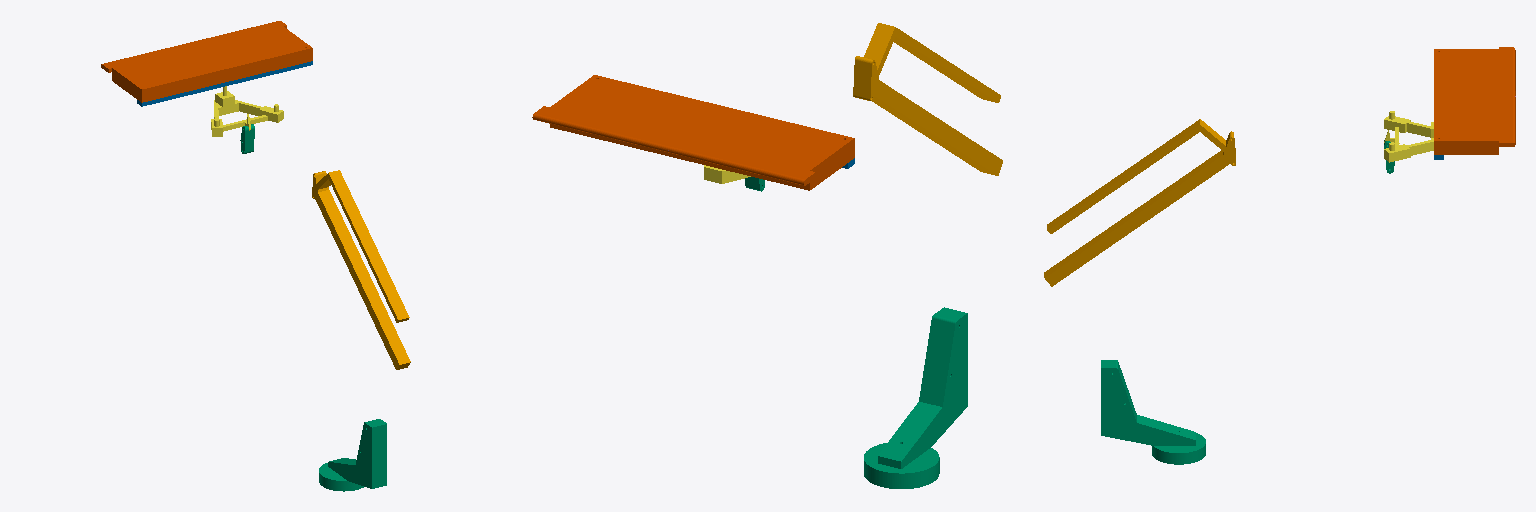
--- Render facts (derived) ---
3 views of the same robot in one strip: view 1: azimuth 30°, elevation 25°; view 2: azimuth 150°, elevation 25°; view 3: azimuth 270°, elevation 25° (orthographic).
Model hinowa with 15 links and 14 joints (8 revolute, 1 prismatic, 5 fixed), rooted at anchor, posed joints at zero except 4 at the middle of their limits (joint_5 = 3.14, joint_6 = 2.49, joint_8 = 0.8723, joint_9 = -0.8723, joint_end_bottom = 0.6508).
Links seen in each view (by area): view 1: end_top, link_7, link_1, end_bottom, end_middle; view 2: end_top, link_1, link_7; view 3: end_top, link_7, link_1, end_bottom.
Link boxes in pixels (bbox=[...]): end_top: bbox=[101, 21, 312, 102]; link_7: bbox=[312, 170, 410, 369]; link_1: bbox=[319, 419, 386, 491]; end_bottom: bbox=[211, 86, 283, 136]; end_middle: bbox=[137, 61, 312, 106]; end_top: bbox=[532, 75, 854, 190]; link_1: bbox=[864, 307, 967, 488]; link_7: bbox=[853, 23, 1002, 175]; end_top: bbox=[1434, 47, 1515, 154]; link_7: bbox=[1044, 119, 1235, 286]; link_1: bbox=[1101, 360, 1205, 464]; end_bottom: bbox=[1384, 111, 1433, 162].
Size in the robot's own frame: 1.88 by 3.92 by 3.29 metres.
6 mesh visuals loaded from 13 distinct referenced files (6 binary STL); not drawn: 7 (reference not matched to a file when rendering).

URDF robot description (hinowa):
<?xml version="1.0"?>
<robot name="hinowa"> 
<!--
 <link name="world" />
  <joint name="world_joint" type="fixed">
    <origin rpy="1.57071 0 0"/>
    <parent link="world"/>
    <child link="base_link"/>
  </joint>
-->
<!-- uncomment for reference to aruco_mapping topic -->

<!--
 <link name="camera_link">
    <collision>
      <origin xyz="0 0 0" rpy="0 0 0"/>
      <geometry>
    <box size="0.160 0.105 0.170"/>
      </geometry>
    </collision>
    <visual>
      <origin xyz="0 0 0" rpy="0 0 0"/>
      <geometry>
    <box size="0.160 0.105 0.170"/>
      </geometry>
    </visual>
 </link>

 <joint name="dummy_joint" type="fixed">
    <origin xyz="0 0 0" rpy="1.57071 1.57071 0"/>
    <parent link="dummy"/>
    <child link="camera_link"/>
 </joint>

 <joint name="camera_joint" type="fixed">
    <origin xyz="0 0 -0.2" rpy="0 0 0"/>
    <parent link="camera_link"/>
    <child link="base_link"/>
 </joint>
-->
<!-- rpy="1.57071 1.57071 0"/>  (commented alt for camera_joint origin)-->

  <link name="anchor"/>

 <joint name="anchor_joint" type="fixed">
    <origin xyz="0.0 0.0 0.0" rpy="0 0 0"/> <!-- check these distances -->
    <parent link="anchor"/>
    <child link="base_link"/>
 </joint>

<!--ALL OTHER URDF MODELLING -->
  <link name="base_link">
    <visual>
	<origin xyz="0 0 0" rpy="1.57071 0 0"/>
      <geometry>
        <mesh filename="package://hinowa_description/meshes/base_link.stl" scale="0.001 0.001 0.001"/>
      </geometry>
    </visual>
    <collision>
	<origin xyz="0 0 0" rpy="1.57071 0 0"/>-->
	<geometry>
	  <mesh filename="package://hinowa_description/meshes/base_link.stl" scale="0.001 0.001 0.001"/>
	</geometry>
    </collision>
    <!--
      <inertial>
      <origin xyz="0.54 -0.05591 0" rpy="0 0 0"/>
      <mass value="500"/>
      <inertia  ixx="100.521" ixy="0" ixz="0" iyy="160.77" iyz="0" izz="120.485"/>
    </inertial>
    -->
  </link>

  <link name="link_1">
  <visual>
    <geometry>
      <mesh filename="package://hinowa_description/meshes/link_1.stl" scale="0.001 0.001 0.001"/>
    </geometry>
  </visual>
  <collision>
    <geometry>
      <mesh filename="package://hinowa_description/meshes/link_1.stl" scale="0.001 0.001 0.001"/>
    </geometry>
  </collision>
<!--
    <inertial>
      <origin xyz="0.264481 0 0.275696" rpy="0 0 0"/>
      <mass value="200"/>
      <inertia  ixx="37.117" ixy="0" ixz="-30.283" iyy="75.104" iyz="0" izz="42.477"/>
   </inertial>
-->
  </link>

  <joint name="joint_1" type="revolute">
    <origin xyz="0.0 0 0.583" rpy="0 0 -1.57071"/>
    <limit lower="-2.61799" upper="2.61799" effort="100" velocity = "1.0" /> <!-- lower: -2.61799, upper 2.61799-->
    <axis xyz="0 0 1"/>
    <parent link="base_link"/>
    <child link="link_1"/>
  </joint>

  <link name="link_2">
  <visual>
    <origin xyz="0.0 0.0 0.0" rpy="1.57071 0 -1.57071"/>
    <geometry>
      <mesh filename="package://hinowa_description/meshes/link_2.stl" scale="0.001 0.001 0.001"/>
    </geometry>
  </visual>
  <collision>
    <origin xyz="0.0 0.0 0.0" rpy="1.57071 0 -1.57071"/>
    <geometry>
      <mesh filename="package://hinowa_description/meshes/link_2.stl" scale="0.001 0.001 0.001"/>
    </geometry>
  </collision>
<!--   
      <inertial>
      <origin xyz="-0.6 0 -0.1732" rpy="1.849963 0 -1.57071"/>
      <mass value="100"/>
      <inertia  ixx="21.542" ixy="0" ixz="0" iyy="20.448" iyz="5.968" izz="2.065"/> 
   </inertial>
-->
  </link>
<!--
  <joint name="joint_2" type="revolute">
    <origin xyz="0.565 0 0.795" rpy="0 0 0"/>
    <axis xyz="0 1 0"/>
    <limit lower="0" upper="1.22173" effort="100" velocity = "1.0" />
    <parent link="link_1"/>
    <child link="link_2"/>
  </joint>
-->
  <joint name="joint_2" type="fixed">
    <origin xyz="0.550224 0 0.767144" rpy="0 0 0"/>
    <axis xyz="0 1 0"/>
    <limit effort="100" velocity = "1.0" />
    <parent link="link_1"/>
    <child link="link_2"/>
  </joint>

  <link name="link_3">
  <visual>
    <origin xyz="0 0 0" rpy="0 0 0"/>
    <geometry>
      <mesh filename="package://hinowa_description/meshes/link_3.stl" scale="0.001 0.001 0.001"/>
    </geometry>
  </visual>
  <collision>
    <origin xyz="0 0 0" rpy="0 0 0"/>
    <geometry>
      <mesh filename="package://hinowa_description/meshes/link_3.stl" scale="0.001 0.001 0.001"/>
    </geometry>
  </collision>
<!-- 
  <inertial>
      <origin xyz="0 0.076 0.071" rpy="0 0 0"/>
      <mass value="100"/>
      <inertia  ixx="10.873" ixy="0" ixz="0" iyy="2.1" iyz="-0.18" izz="10.1"/>
  </inertial>
-->
  </link>

<!--
  <joint name="joint_3" type="revolute">
    <axis xyz="1 0 0"/>
    <origin xyz="-1.0665 0 -0.266" rpy="1.57071 0 -1.57071"/>
    <limit lower="0" upper="1.1410209" effort="100" velocity = "1.0" />
    <parent link="link_2"/>
    <child link="link_3"/>
    <mimic joint="joint_2"/>
  </joint>
-->

  <joint name="joint_3" type="fixed">
    <axis xyz="1 0 0"/>
    <origin xyz="-1.067325 0 -0.266114" rpy="1.57071 0 -1.57071"/>
    <limit effort="100" velocity = "1.0" />
    <parent link="link_2"/>
    <child link="link_3"/>
  </joint>

  <link name="link_4">
  <visual>
    <origin xyz="0 0 0" rpy="0 0 0"/>
    <geometry>
      <mesh filename="package://hinowa_description/meshes/link_4.stl" scale="0.001 0.001 0.001"/>
    </geometry>
  </visual>
  <collision>
    <origin xyz="0 0 0" rpy="0 0 0"/>
    <geometry>
      <mesh filename="package://hinowa_description/meshes/link_4.stl" scale="0.001 0.001 0.001"/>
    </geometry>
  </collision>
  </link>

  <joint name="joint_4" type="revolute">
    <origin xyz="0 0.460 0.080"/>
    <axis xyz="1 0 0"/>
    <limit lower="0" upper="1.406735" effort="100" velocity = "1.0" />
    <parent link="link_3"/>
    <child link="link_4"/>
  </joint>

  <link name="link_5">
  <visual>
    <origin xyz="0 0 0" rpy="0 0 0"/>
    <geometry>
      <mesh filename="package://hinowa_description/meshes/link_5.stl" scale="0.001 0.001 0.001"/>
    </geometry>
  </visual>
  <collision>
    <origin xyz="0 0 0" rpy="0 0 0"/>
    <geometry>
      <mesh filename="package://hinowa_description/meshes/link_5.stl" scale="0.001 0.001 0.001"/>
    </geometry>
  </collision>
  </link>

  <joint name="joint_5" type="revolute">
    <origin xyz="0 -0.661530 -2.307028" rpy="0 3.14159 3.14159"/>
    <axis xyz="1 0 0"/>
    <limit lower="1.74159" upper="3.14159" effort="100" velocity = "1.0" /> <!--lower = 1.734855 (unrounded limits in .yaml)-->
    <parent link="link_4"/>
    <child link="link_5"/>
    <mimic joint="joint_4" multiplier="-1" offset="3.14159"/>
  </joint>

  <link name="link_6">
  <visual>
    <origin xyz="0 0 0" rpy="0 0 0"/>
    <geometry>
      <mesh filename="package://hinowa_description/meshes/link_6.stl" scale="0.001 0.001 0.001"/>
    </geometry>
  </visual>
  <collision>
    <origin xyz="0 0 0" rpy="0 0 0"/>
    <geometry>
      <mesh filename="package://hinowa_description/meshes/link_6.stl" scale="0.001 0.001 0.001"/>
    </geometry>
  </collision>
  </link>

  <joint name="joint_6" type="revolute">
    <origin xyz="0 0.750 -0.09" rpy="0 3.14159 3.14159"/>
    <axis xyz="1 0 0"/>
    <limit lower="1.84" upper="3.14159" effort="100" velocity = "1.0" /><!-- 1.84132 -->
    <parent link="link_5"/>
    <child link="link_6"/>
  </joint>


  <link name="link_7">
  <visual>
    <origin xyz="0 0 0" rpy="0 0 0"/>
    <geometry>
      <mesh filename="package://hinowa_description/meshes/link_7_cable.stl" scale="0.001 0.001 0.001"/>
    </geometry>
  </visual>
  <collision>
    <origin xyz="0 0 0" rpy="0 0 0"/>
    <geometry>
      <mesh filename="package://hinowa_description/meshes/link_7_cable.stl" scale="0.001 0.001 0.001"/>
    </geometry>
  </collision>
  </link>

  <joint name="joint_7" type="prismatic">
    <origin xyz="0 0 2.735" rpy="0 0 0"/>
    <axis xyz="0 0 1"/>
    <limit lower="0" upper="1.851" effort="100" velocity = "1.0" />
    <parent link="link_6"/>
    <child link="link_7"/>
  </joint>

  <link name="link_8">
  <visual>
    <origin xyz="0 0 0" rpy="0 0 0"/>
    <geometry>
      <mesh filename="package://hinowa_description/meshes/link_8.stl" scale="0.001 0.001 0.001"/>
    </geometry>
  </visual>
  <collision>
    <origin xyz="0 0 0" rpy="0 0 0"/>
    <geometry>
      <mesh filename="package://hinowa_description/meshes/link_8_collision.stl" scale="0.001 0.001 0.001"/>
    </geometry>
  </collision>
  </link>

  <joint name="joint_8" type="revolute">
    <origin xyz="0 -0.07 0.05" rpy="0 0 0"/> <!-- 0 0.120 0.170 -->
    <axis xyz="1 0 0"/>
    <limit lower="0.174533" upper="1.57" effort="100" velocity = "1.0" /><!--0.150012--><!--0.13-->
    <parent link="link_7"/>
    <child link="link_8"/>
  </joint>

  <link name="link_9">
  <visual>
    <origin xyz="0 0 0" rpy="0 0 0"/>
    <geometry>
      <mesh filename="package://hinowa_description/meshes/link_9.stl" scale="0.001 0.001 0.001"/>
    </geometry>
  </visual>
  <collision>
    <origin xyz="0 0 0" rpy="0 0 0"/>
    <geometry>
      <mesh filename="package://hinowa_description/meshes/link_9_collision.stl" scale="0.001 0.001 0.001"/>
    </geometry>
  </collision>
</link>

  <joint name="joint_9" type="revolute">
    <origin xyz="0 0.223361 1.280668" rpy="0 0 0"/>
    <axis xyz="1 0 0"/>
    <limit lower="-1.57" upper="-0.174533" effort="100" velocity = "1.0" />
    <parent link="link_8"/>
    <child link="link_9"/>
    <mimic joint="joint_8" multiplier="-1" offset="0.0"/>-->
  </joint>
<!--
  <link name="link_8_b">
  <visual>
    <origin xyz="0 0 0" rpy="0 0 0"/>
    <geometry>
      <mesh filename="package://hinowa_description/meshes/link_8_back.stl" scale="0.001 0.001 0.001"/>
    </geometry>
  </visual>
  <collision>
    <origin xyz="0 0 0" rpy="0 0 0"/>
    <geometry>
      <mesh filename="package://hinowa_description/meshes/link_8_back.stl" scale="0.001 0.001 0.001"/>
    </geometry>
  </collision>
</link>

  <joint name="joint_8_b" type="revolute">
    <origin xyz="0 -0.07 0.05" rpy="0 0 0"/>
    <axis xyz="1 0 0"/>
    <limit lower="0.13" upper="1.57071" effort="100" velocity = "1.0" />
    <parent link="link_7"/>
    <child link="link_8_b"/>
    <mimic joint="joint_8" multiplier="1" offset="0.0"/>
  </joint>
-->

 <link name="end_bottom">
  <visual>
    <origin xyz="0 0 0" rpy="0 0 0"/>
    <geometry>
      <mesh filename="package://hinowa_description/meshes/end_bottom.stl" scale="0.001 0.001 0.001"/>
    </geometry>
  </visual>
  <collision>
    <origin xyz="0 0 0" rpy="0 0 0"/>
    <geometry>
      <mesh filename="package://hinowa_description/meshes/end_bottom.stl" scale="0.001 0.001 0.001"/>
    </geometry>
  </collision>
 </link>

  <joint name="joint_end_bottom" type="revolute">
    <origin xyz="0 0.190 0.120" rpy="0 0 0"/>
    <axis xyz="1 0 0"/>
    <limit lower="-1.57071" upper="1.17159" effort="100" velocity = "1.0" />
    <parent link="link_9"/>
    <child link="end_bottom"/>
    <mimic joint="joint_6" multiplier="-1" offset="3.14159"/>-->
  </joint>

 <link name="end_middle">
  <visual>
    <origin xyz="0 0 0" rpy="0 0 0"/>
    <geometry>
      <mesh filename="package://hinowa_description/meshes/end_middle.stl" scale="0.001 0.001 0.001"/>
    </geometry>
  </visual>
  <collision>
    <origin xyz="0 0 0" rpy="0 0 0"/>
    <geometry>
      <mesh filename="package://hinowa_description/meshes/end_middle.stl" scale="0.001 0.001 0.001"/>
    </geometry>
  </collision>
 </link>

  <joint name="joint_end_middle" type="revolute">
    <origin xyz="0 0.271 0.427353" rpy="0 1.57071 0"/>
    <axis xyz="0 1 0"/>
    <limit lower="-0.523599" upper="0.523599" effort="100" velocity = "1.0" />
    <parent link="end_bottom"/>
    <child link="end_middle"/>
    <!-- <mimic joint="joint_1" multiplier="-1" offset="-1.57071"/> -->
  </joint>

 <link name="end_top">
  <visual>
    <origin xyz="0 0 0" rpy="0 0 0"/>
    <geometry>
      <mesh filename="package://hinowa_description/meshes/end_top.stl" scale="0.001 0.001 0.001"/>
    </geometry>
  </visual>
  <collision>
    <origin xyz="0 0 0" rpy="0 0 0"/>
    <geometry>
      <mesh filename="package://hinowa_description/meshes/end_top.stl" scale="0.001 0.001 0.001"/>
    </geometry>
  </collision>
 </link>
<!--
  <joint name="joint_end_top" type="prismatic">
    <origin xyz="0 0.04 0.855" rpy="0 3.14159 0"/>
    <axis xyz="1 0 0"/>
    <limit lower="-0.3" upper="0" effort="100" velocity = "1.0" />
    <parent link="end_middle"/>
    <child link="end_top"/>
  </joint>
-->
  <joint name="joint_end_top" type="fixed">
    <origin xyz="0 0.04 0.855" rpy="0 3.14159 0"/>
    <axis xyz="1 0 0"/>
    <limit effort="100" velocity = "1.0" />
    <parent link="end_middle"/>
    <child link="end_top"/>
    <!-- <mimic joint="joint_1" multiplier="-1" offset="-1.57071"/> -->
  </joint>

  <link name="end">
  <visual>
    <origin xyz="0 0 0" rpy="0 0 0"/>
    <geometry>
      <box size="0.01 0.01 0.01"/>
    </geometry>
  </visual>
  <collision>
    <origin xyz="0 0 0" rpy="0 0 0"/>
    <geometry>
      <box size="0.0001 0.0001 0.0001"/>
    </geometry>
  </collision>
  </link>

  <joint name="end_joint" type="fixed">
    <origin rpy="0 0 0" xyz="0.63 0.113 0.855"/>
    <parent link="end_top"/>
    <child link="end"/>
  </joint>



<!-- cosmetic additions-->
<!--

-->
<!--
  <link name="link_4a">
  <visual>
    <origin xyz="0 0 0" rpy="0 0 0"/>
    <geometry>
      <mesh filename="package://hinowa_description/meshes/link_4a.stl" scale="0.001 0.001 0.001"/>
    </geometry>
  </visual>
  <collision>
    <origin xyz="0 0 0" rpy="0 0 0"/>
    <geometry>
      <mesh filename="package://hinowa_description/meshes/link_4a.stl" scale="0.001 0.001 0.001"/>
    </geometry>
  </collision>
  </link>

  <joint name="joint_4a" type="revolute">
    <origin xyz="-0.155 -0.266742 -0.081551" rpy="0 0 0"/>
    <axis xyz="1 0 0"/>
    <limit lower="0" upper="1.57071" effort="100" velocity = "1.0" />
    <parent link="link_5"/>
    <child link="link_4a"/>
    <mimic joint="joint_4" multiplier="1" offset="0"/>
  </joint>

<link name="link_4b">
  <visual>
    <origin xyz="0 0 0" rpy="0 0 0"/>
    <geometry>
      <mesh filename="package://hinowa_description/meshes/link_4a.stl" scale="0.001 0.001 0.001"/>
    </geometry>
  </visual>
  <collision>
    <origin xyz="0 0 0" rpy="0 0 0"/>
    <geometry>
      <mesh filename="package://hinowa_description/meshes/link_4a.stl" scale="0.001 0.001 0.001"/>
    </geometry>
  </collision>
  </link>

  <joint name="joint_4b" type="revolute">
    <origin xyz="0.105 -0.266742 -0.081551" rpy="0 0 0"/>
    <axis xyz="1 0 0"/>
    <limit lower="0" upper="1.57071" effort="100" velocity = "1.0" />
    <parent link="link_5"/>
    <child link="link_4b"/>
    <mimic joint="joint_4" multiplier="1" offset="0"/>
  </joint>

-->



<!--
  <link name="link_cable_carrier">
  <visual>
    <origin xyz="0 0 0" rpy="0 0 0"/>
    <geometry>
      <mesh filename="package://hinowa_description/meshes/cable_carrier_ext.stl" scale="0.001 0.001 0.001"/>
    </geometry>
  </visual>
  <collision>
    <origin xyz="0 0 0" rpy="0 0 0"/>
    <geometry>
      <mesh filename="package://hinowa_description/meshes/cable_carrier_ext.stl" scale="0.001 0.001 0.001"/>
    </geometry>
  </collision>
</link>

  <joint name="joint_cable_carrier" type="prismatic">
    <origin xyz="0 0.360817 -1.554906" rpy="0 -1.57071 0"/>
    <axis xyz="1 0 0"/>
    <limit lower="0" upper="1" effort="100" velocity = "1.0" />
    <parent link="link_7"/>
    <child link="link_cable_carrier"/>
    <mimic joint="joint_7" multiplier="-0.5" offset="0"/>
  </joint>
-->

<!--
  <joint name="joint_9" type="revolute">
    <origin xyz="0.0 0.225743 1.2825" rpy="0 0 0"/>
    <axis xyz="1 0 0"/>
    <limit lower="-1.57071" upper="0" effort="10000000" velocity = "2.0" />
    <parent link="link_8"/>
    <child link="link_9"/>
  </joint>
-->
<!--::::::::::::::::::::::::::::::::::aruco camera sensing (most recent)::::::::::::::::::::::::::::::::::::::::::-->
<!--
 <link name="camera_link">
    <collision>
      <origin xyz="0 0 0" rpy="0 0 0"/>
      <geometry>
    <box size="0.160 0.105 0.170"/>
      </geometry>
    </collision>
    <visual>
      <origin xyz="0 0 0" rpy="0 0 0"/>
      <geometry>
    <box size="0.160 0.105 0.170"/>
      </geometry>
    </visual>
 </link>

 <joint name="camera_joint" type="fixed">
    <origin xyz="0 0 0.56" rpy="1.57071 0 0"/>
    <parent link="end_bottom"/>
    <child link="camera_link"/>
 </joint>

 <link name="camera_frame">
    <collision>
      <origin xyz="0 0 0" rpy="0 0 0"/>
      <geometry>
    <box size="0.05 0.05 0.05"/>
      </geometry>
    </collision>
    <visual>
      <origin xyz="0 0 0" rpy="0 0 0"/>
      <geometry>
    <box size="0.05 0.05 0.05"/>
      </geometry>
    </visual>
    <inertial>
      <mass value="0.0001" />
      <origin xyz="0 0 0" rpy="0 0 0"/>
      <inertia ixx="0.000001" ixy="0" ixz="0" iyy="0.000001" iyz="0" izz="0.000001" />
    </inertial>
 </link>

 <joint name="frame_joint" type="fixed">
    <origin xyz="0.0 0.0 0.56" rpy="-1.57071 3.14159 0"/>
    <parent link="end_bottom"/>
    <child link="camera_frame"/>
 </joint>
-->

<!-- rpy="-1.57071 3.14159 0" - do not change these values -->
<!--:::::::::::::::::::::::::::::::::::::::lidar::::::::::::::::::::::::::::::::::::::-->
<!--
  <joint name="hokuyo_joint" type="fixed">
    <axis xyz="0 1 0" />
    <origin xyz="0 0.03 -0.13125" rpy="0 0 0"/>
    <parent link="arm_link_0"/>
    <child link="hokuyo_link"/>
  </joint>

  <link name="hokuyo_link">
    <collision>
      <origin xyz="0 0 0" rpy="0 0 0"/>
      <geometry>
    <box size="0.1 0.05 0.1"/>
      </geometry>
    </collision>

    <visual>
      <origin xyz="0 0 0" rpy="0 0 0"/>
      <geometry>
        <box size="0.1 0.05 0.1"/>
      </geometry>
    </visual>

    <inertial>
      <mass value="1e-5" />
      <origin xyz="0 0 0" rpy="0 0 0"/>
      <inertia ixx="1e-6" ixy="0" ixz="0" iyy="1e-6" iyz="0" izz="1e-6" />
    </inertial>
  </link>
-->
<!--::::::::::::::::::::::::::::::::::::ArUco marker sensor::::::::::::::::::::::::::::-->
<!--
 <link name="camera2_link">
    <collision>
      <origin xyz="0 0 0" rpy="0 0 0"/>
      <geometry>
    <box size="0.05 0.05 0.05"/>
      </geometry>
    </collision>
    <visual>
      <origin xyz="0 0 0" rpy="0 0 0"/>
      <geometry>
    <box size="0.05 0.05 0.05"/>
      </geometry>
    </visual>
    <inertial>
      <mass value="0.0001" />
      <origin xyz="0 0 0" rpy="0 0 0"/>
      <inertia ixx="0.000001" ixy="0" ixz="0" iyy="0.000001" iyz="0" izz="0.000001" />
    </inertial>
 </link>

 <joint name="camera2_joint" type="fixed">
    <origin xyz="-0.14 -0.025 0" rpy="3.14159 0 1.57071"/>
    <parent link="end"/>
    <child link="camera2_link"/>
 </joint>

 <link name="camera2_frame">
    <collision>
      <origin xyz="0 0 0" rpy="0 0 0"/>
      <geometry>
    <box size="0.05 0.05 0.05"/>
      </geometry>
    </collision>
    <visual>
      <origin xyz="0 0 0" rpy="0 0 0"/>
      <geometry>
    <box size="0.05 0.05 0.05"/>
      </geometry>
    </visual>
    <inertial>
      <mass value="0.0001" />
      <origin xyz="0 0 0" rpy="0 0 0"/>
      <inertia ixx="0.000001" ixy="0" ixz="0" iyy="0.000001" iyz="0" izz="0.000001" />
    </inertial>
 </link>
-->
<!-- rpy="-1.57071 3.14159 0" - do not change these values -->
<!--
 <joint name="frame2_joint" type="fixed">
    <origin xyz="-0.14 -0.025 0" rpy="-1.57071 3.14159 0"/>
    <parent link="end"/>
    <child link="camera2_frame"/>
 </joint>
-->
<!--:::::::::::::::::::::::::::::::::sensors::::::::::::::::::::::::::::::::::::::-->
<!--
  <gazebo reference="camera2_link">
    <sensor type="camera" name="camera">
      <update_rate>30.0</update_rate>
      <camera name="camera">
        <horizontal_fov>1.3962634</horizontal_fov>
        <image>
          <width>800</width>
          <height>800</height>
          <format>R8G8B8</format>
        </image>
        <clip>
          <near>0.02</near>
          <far>300</far>
        </clip>
        <noise>
          <type>gaussian</type>
          <mean>0.0</mean>
          <stddev>0.007</stddev>
        </noise>
      </camera>

      <plugin name="camera_controller" filename="libgazebo_ros_camera.so">
        <alwaysOn>true</alwaysOn>
        <updateRate>0.0</updateRate>
        <cameraName>/camera</cameraName>
        <imageTopicName>/camera/image_raw</imageTopicName>
        <cameraInfoTopicName>/camera/camera_info</cameraInfoTopicName>
        <frameName>camera2_frame</frameName>
        <hackBaseline>0.07</hackBaseline>
        <distortionK1>0.0</distortionK1>
        <distortionK2>0.0</distortionK2>
        <distortionK3>0.0</distortionK3>
        <distortionT1>0.0</distortionT1>
        <distortionT2>0.0</distortionT2>
      </plugin>	
 </sensor>
</gazebo>


<gazebo reference="camera_link">
  <sensor type="depth" name="depth_camera">
      <always_on>true</always_on>
      <update_rate>20.0</update_rate>
      <camera>
        <horizontal_fov>1.3962634</horizontal_fov>
        <image>
          <format>R8G8B8</format>
          <width>800</width>
          <height>800</height>
        </image>
        <clip>
          <near>0.02</near>
          <far>50</far>
        </clip>
      </camera>
      <plugin name="camera_link_controller" filename="libgazebo_ros_openni_kinect.so">
        <baseline>0.2</baseline>
        <alwaysOn>true</alwaysOn>
        <updateRate>0.0</updateRate>
        <cameraName>depth_camera</cameraName>
        <imageTopicName>/depth/image_raw</imageTopicName>
        <cameraInfoTopicName>/depth/camera_info</cameraInfoTopicName>
        <depthImageTopicName>/depth/image_raw</depthImageTopicName>
        <depthImageInfoTopicName>/depth/camera_info</depthImageInfoTopicName>
        <pointCloudTopicName>/depth/points</pointCloudTopicName>
        <frameName>camera_frame</frameName>
        <pointCloudCutoff>0.5</pointCloudCutoff>
        <distortionK1>0.00000001</distortionK1>
        <distortionK2>0.00000001</distortionK2>
        <distortionK3>0.00000001</distortionK3>
        <distortionT1>0.00000001</distortionT1>
        <distortionT2>0.00000001</distortionT2>
        <CxPrime>0</CxPrime>
        <Cx>0</Cx>
        <Cy>0</Cy>
        <focalLength>0</focalLength>
        <hackBaseline>0</hackBaseline>
      </plugin>
  </sensor>
</gazebo>
-->
<!-- hokuyo 
  <gazebo reference="hokuyo_link">
    <sensor type="gpu_ray" name="head_hokuyo_sensor">
      <pose>0 0 0 0 0 0</pose>
      <visualize>true</visualize>
      <update_rate>40</update_rate>
      <ray>
        <scan>
          <horizontal>
            <samples>720</samples>
            <resolution>1</resolution>
            <min_angle>-1.570796</min_angle>
            <max_angle>1.570796</max_angle>
          </horizontal>
        </scan>
        <range>
          <min>0.10</min>
          <max>30.0</max>
          <resolution>0.01</resolution>
        </range>
        <noise>
          <type>gaussian</type>
          <mean>0.0</mean>
          <stddev>0.01</stddev>
        </noise>
      </ray>
      <plugin name="gazebo_ros_head_hokuyo_controller" filename="libgazebo_ros_gpu_laser.so">
        <topicName>/arm_gazebo/laser/scan</topicName>
        <frameName>hokuyo_link</frameName>
      </plugin>
    </sensor>
  </gazebo>
-->
<!--::::::::::::::::::::::::::::::Gazebo - Links::::::::::::::::::::::::::-->
<!--
<gazebo reference="base_link">
  <selfCollide>0</selfCollide>
  <kp>1000000.0</kp>
  <kd>1.0</kd>
  <mu1>0.8</mu1>
  <mu2>0.8</mu2>
  <maxVel>0.0</maxVel>
  <minDepth>0.001</minDepth>
</gazebo>

<gazebo reference="link_1">
  <selfCollide>0</selfCollide>
  <kp>1000000.0</kp>
  <kd>1.0</kd>
  <mu1>0.8</mu1>
  <mu2>0.8</mu2>
  <maxVel>0.0</maxVel>
  <minDepth>0.001</minDepth>
</gazebo>

<gazebo reference="link_2">
  <selfCollide>0</selfCollide>
  <kp>1000000.0</kp>
  <kd>1.0</kd>
  <mu1>0.8</mu1>
  <mu2>0.8</mu2>
  <maxVel>0.0</maxVel>
  <minDepth>0.001</minDepth>
</gazebo>

<gazebo reference="link_3">
  <selfCollide>0</selfCollide>
  <kp>1000000.0</kp>
  <kd>1.0</kd>
  <mu1>0.8</mu1>
  <mu2>0.8</mu2>
  <maxVel>0.0</maxVel>
  <minDepth>0.001</minDepth>
</gazebo>

<gazebo reference="link_4">
  <selfCollide>0</selfCollide>
  <kp>1000000.0</kp>
  <kd>1.0</kd>
  <mu1>0.8</mu1>
  <mu2>0.8</mu2>
  <maxVel>0.0</maxVel>
  <minDepth>0.001</minDepth>
</gazebo>

<gazebo reference="link_5">
  <selfCollide>0</selfCollide>
  <kp>1000000.0</kp>
  <kd>1.0</kd>
  <mu1>0.8</mu1>
  <mu2>0.8</mu2>
  <maxVel>0.0</maxVel>
  <minDepth>0.001</minDepth>
</gazebo>

<gazebo reference="link_6">
  <selfCollide>0</selfCollide>
  <kp>1000000.0</kp>
  <kd>1.0</kd>
  <mu1>0.8</mu1>
  <mu2>0.8</mu2>
  <maxVel>0.0</maxVel>
  <minDepth>0.001</minDepth>
</gazebo>

<gazebo reference="link_7">
  <selfCollide>0</selfCollide>
  <kp>1000000.0</kp>
  <kd>1.0</kd>
  <mu1>0.8</mu1>
  <mu2>0.8</mu2>
  <maxVel>0.0</maxVel>
  <minDepth>0.001</minDepth>
</gazebo>


<gazebo reference="link_8">
  <selfCollide>0</selfCollide>
  <kp>1000000.0</kp>
  <kd>1.0</kd>
  <mu1>0.8</mu1>
  <mu2>0.8</mu2>
  <maxVel>0.0</maxVel>
  <minDepth>0.001</minDepth>
</gazebo>
-->


<!--
<gazebo reference="arm_link_3">
  <selfCollide>0</selfCollide>
  <kp>1000000.0</kp>
  <kd>1.0</kd>
  <mu1>0.8</mu1>
  <mu2>0.8</mu2>
  <maxVel>0.0</maxVel>
  <minDepth>0.001</minDepth>
</gazebo>

<gazebo reference="arm_link_4">
  <selfCollide>0</selfCollide>
  <kp>1000000.0</kp>
  <kd>1.0</kd>
  <mu1>0.8</mu1>
  <mu2>0.8</mu2>
  <maxVel>0.0</maxVel>
  <minDepth>0.001</minDepth>
</gazebo>

<gazebo reference="arm_link_5">
  <selfCollide>0</selfCollide>
  <kp>1000000.0</kp>
  <kd>1.0</kd>
  <mu1>0.8</mu1>
 <mu2>0.8</mu2>
  <maxVel>0.0</maxVel>
  <minDepth>0.001</minDepth>
</gazebo>

<gazebo reference="arm_link_6">
  <selfCollide>0</selfCollide>
  <kp>1000000.0</kp>
  <kd>1.0</kd>
  <mu1>0.8</mu1>
  <mu2>0.8</mu2>
  <maxVel>0.0</maxVel>
  <minDepth>0.001</minDepth>
</gazebo>

<gazebo reference="arm_link_7">
  <selfCollide>0</selfCollide>
  <kp>1000000.0</kp>
  <kd>1.0</kd>
  <mu1>0.8</mu1>
  <mu2>0.8</mu2>
  <maxVel>0.0</maxVel>
  <minDepth>0.001</minDepth>
</gazebo>
-->
<!--
<gazebo reference="roller">
  <selfCollide>0</selfCollide>
  <kp>1000000.0</kp>
  <kd>1.0</kd>
  <mu1>0.8</mu1>
  <mu2>0.8</mu2>
  <maxVel>0.0</maxVel>
  <minDepth>0.001</minDepth>
</gazebo>

<gazebo reference="end">
  <selfCollide>0</selfCollide>
  <kp>1000000.0</kp>
  <kd>1.0</kd>
  <mu1>0.8</mu1>
  <mu2>0.8</mu2>
  <maxVel>0.0</maxVel>
  <minDepth>0.001</minDepth>
</gazebo>

<gazebo reference="camera_link">
  <selfCollide>0</selfCollide>
  <kp>1000000.0</kp>
  <kd>1.0</kd>
  <mu1>0.8</mu1>
  <mu2>0.8</mu2>
  <maxVel>0.0</maxVel>
  <minDepth>0.001</minDepth>
</gazebo>

<gazebo reference="camera_frame">
  <selfCollide>0</selfCollide>
  <kp>1000000.0</kp>
  <kd>1.0</kd>
  <mu1>0.8</mu1>
  <mu2>0.8</mu2>
  <maxVel>0.0</maxVel>
  <minDepth>0.001</minDepth>
</gazebo>

<gazebo reference="hokuyo_link">
  <selfCollide>0</selfCollide>
  <kp>1000000.0</kp>
  <kd>1.0</kd>
  <mu1>0.8</mu1>
  <mu2>0.8</mu2>
  <maxVel>0.0</maxVel>
  <minDepth>0.001</minDepth>
</gazebo>

<gazebo reference="camera2_link">
  <selfCollide>0</selfCollide>
  <kp>1000000.0</kp>
  <kd>1.0</kd>
  <mu1>0.8</mu1>
  <mu2>0.8</mu2>
  <maxVel>0.0</maxVel>
  <minDepth>0.001</minDepth>
</gazebo>

<gazebo reference="camera2_frame">
  <selfCollide>0</selfCollide>
  <kp>1000000.0</kp>
  <kd>1.0</kd>
  <mu1>0.8</mu1>
  <mu2>0.8</mu2>
  <maxVel>0.0</maxVel>
  <minDepth>0.001</minDepth>
</gazebo>
-->
<!--:::::::::::::::::::::::::::::Gazebo - Joints::::::::::::::::::::::::::::-->
<!--
<gazebo reference="world_joint">
  <implicitSpringDamper>1</implicitSpringDamper>
</gazebo>

<gazebo reference="joint_1">
  <implicitSpringDamper>1</implicitSpringDamper>
</gazebo>

<gazebo reference="joint_2">
  <implicitSpringDamper>1</implicitSpringDamper>
</gazebo>

<gazebo reference="joint_3">
  <implicitSpringDamper>1</implicitSpringDamper>
</gazebo>


<gazebo reference="joint_4">
  <implicitSpringDamper>1</implicitSpringDamper>
</gazebo>

<gazebo reference="joint_5">
  <implicitSpringDamper>1</implicitSpringDamper>
</gazebo>

<gazebo reference="joint_6">
  <implicitSpringDamper>1</implicitSpringDamper>
</gazebo>

<gazebo reference="joint_7">
  <implicitSpringDamper>1</implicitSpringDamper>
</gazebo>

<gazebo reference="joint_8">
  <implicitSpringDamper>1</implicitSpringDamper>
</gazebo>
-->

<!--
<gazebo reference="end_joint">
  <implicitSpringDamper>1</implicitSpringDamper>
</gazebo>

<gazebo reference="arm_joint_3">
  <implicitSpringDamper>1</implicitSpringDamper>
</gazebo>

<gazebo reference="arm_joint_4">
  <implicitSpringDamper>1</implicitSpringDamper>
</gazebo>

<gazebo reference="arm_joint_5">
  <implicitSpringDamper>1</implicitSpringDamper>
</gazebo>

<gazebo reference="arm_joint_6">
  <implicitSpringDamper>1</implicitSpringDamper>
</gazebo>

<gazebo reference="arm_joint_7">
  <implicitSpringDamper>1</implicitSpringDamper>
</gazebo>
-->
<!--:::::::::::::::::::::::::::Transmission::::::::::::::::::::::::::::::::::::-->
<!--
  <transmission name="tran_0">
    <type>transmission_interface/SimpleTransmission</type>
    <joint name="world_joint">
      <hardwareInterface>hardware_interface/PositionJointInterface</hardwareInterface>
    </joint>
    <actuator name="motor_0">
      <mechanicalReduction>1</mechanicalReduction>
    </actuator>
 </transmission>
-->
 <transmission name="tran_1">
    <type>transmission_interface/SimpleTransmission</type>
    <joint name="joint_1">
      <hardwareInterface>hardware_interface/PositionJointInterface</hardwareInterface>
    </joint>
    <actuator name="motor_1">
      <mechanicalReduction>1</mechanicalReduction>
    </actuator>
 </transmission>

 <transmission name="tran_2">
    <type>transmission_interface/SimpleTransmission</type>
    <joint name="joint_2">
      <hardwareInterface>hardware_interface/PositionJointInterface</hardwareInterface>
    </joint>
    <actuator name="motor_2">  
      <mechanicalReduction>1</mechanicalReduction>
    </actuator>
 </transmission>
<!--
 <transmission name="tran_3">
    <type>transmission_interface/SimpleTransmission</type>
    <joint name="joint_3">
      <hardwareInterface>hardware_interface/PositionJointInterface</hardwareInterface>
    </joint>
    <actuator name="motor_3">
      <mechanicalReduction>1</mechanicalReduction>
    </actuator>
 </transmission>
-->
 <transmission name="tran_4">
    <type>transmission_interface/SimpleTransmission</type>
    <joint name="joint_4">
      <hardwareInterface>hardware_interface/PositionJointInterface</hardwareInterface>
    </joint>
    <actuator name="motor_4">
      <mechanicalReduction>1</mechanicalReduction>
    </actuator>
 </transmission>
<!--
 <transmission name="tran_5">
    <type>transmission_interface/SimpleTransmission</type>
    <joint name="joint_5">
      <hardwareInterface>hardware_interface/PositionJointInterface</hardwareInterface>
    </joint>
    <actuator name="motor_5">
      <mechanicalReduction>1</mechanicalReduction>
    </actuator>
 </transmission>
-->

 <transmission name="tran_6">
    <type>transmission_interface/SimpleTransmission</type>
    <joint name="joint_6">
      <hardwareInterface>hardware_interface/PositionJointInterface</hardwareInterface>
    </joint>
    <actuator name="motor_6">
      <mechanicalReduction>1</mechanicalReduction>
    </actuator>
 </transmission>

 <transmission name="tran_7">
    <type>transmission_interface/SimpleTransmission</type>
    <joint name="joint_7">
      <hardwareInterface>hardware_interface/PositionJointInterface</hardwareInterface>
    </joint>
    <actuator name="motor_7">
      <mechanicalReduction>1</mechanicalReduction>
    </actuator>
 </transmission>

 <transmission name="tran_8">
    <type>transmission_interface/SimpleTransmission</type>
    <joint name="joint_8">
      <hardwareInterface>hardware_interface/PositionJointInterface</hardwareInterface>
    </joint>
    <actuator name="motor_8">
      <mechanicalReduction>1</mechanicalReduction>
    </actuator>
 </transmission>
-->
<!--
 <transmission name="tran_9">
    <type>transmission_interface/SimpleTransmission</type>
    <joint name="arm_joint_3">
        <hardwareInterface>hardware_interface/PositionJointInterface</hardwareInterface>
    </joint>
    <actuator name="motor_9">
      <mechanicalReduction>1</mechanicalReduction>
    </actuator>
 </transmission>

 <transmission name="tran_10">
    <type>transmission_interface/SimpleTransmission</type>
    <joint name="arm_joint_4">
          <hardwareInterface>hardware_interface/PositionJointInterface</hardwareInterface>
    </joint>
    <actuator name="motor_10">
      <mechanicalReduction>1</mechanicalReduction>
    </actuator>
 </transmission>

 <transmission name="tran_11">
    <type>transmission_interface/SimpleTransmission</type>
    <joint name="arm_joint_5">
          <hardwareInterface>hardware_interface/PositionJointInterface</hardwareInterface>
    </joint>
    <actuator name="motor_11">
      <mechanicalReduction>1</mechanicalReduction>
    </actuator>
 </transmission>

 <transmission name="tran_12">
    <type>transmission_interface/SimpleTransmission</type>
    <joint name="arm_joint_6">
         <hardwareInterface>hardware_interface/PositionJointInterface</hardwareInterface>
    </joint>
    <actuator name="motor_12">
      <mechanicalReduction>1</mechanicalReduction>
    </actuator>
 </transmission>

 <transmission name="tran_13">
    <type>transmission_interface/SimpleTransmission</type>
    <joint name="arm_joint_7">
         <hardwareInterface>hardware_interface/PositionJointInterface</hardwareInterface>
    </joint>
    <actuator name="motor_13">
      <mechanicalReduction>1</mechanicalReduction>
    </actuator>
 </transmission>
-->
<!--
 <transmission name="tran_14">
    <type>transmission_interface/SimpleTransmission</type>
    <joint name="roller_joint">
      <hardwareInterface>hardware_interface/EffortJointInterface</hardwareInterface>
    </joint>
    <actuator name="motor_14">
      <hardwareInterface>hardware_interface/EffortJointInterface</hardwareInterface>
      <mechanicalReduction>1</mechanicalReduction>
    </actuator>
 </transmission>

 <transmission name="tran_15">
    <type>transmission_interface/SimpleTransmission</type>
    <joint name="end_joint">
      <hardwareInterface>hardware_interface/EffortJointInterface</hardwareInterface>
    </joint>
    <actuator name="motor_15">
      <hardwareInterface>hardware_interface/EffortJointInterface</hardwareInterface>
      <mechanicalReduction>1</mechanicalReduction>
    </actuator>
 </transmission>
-->
</robot>
